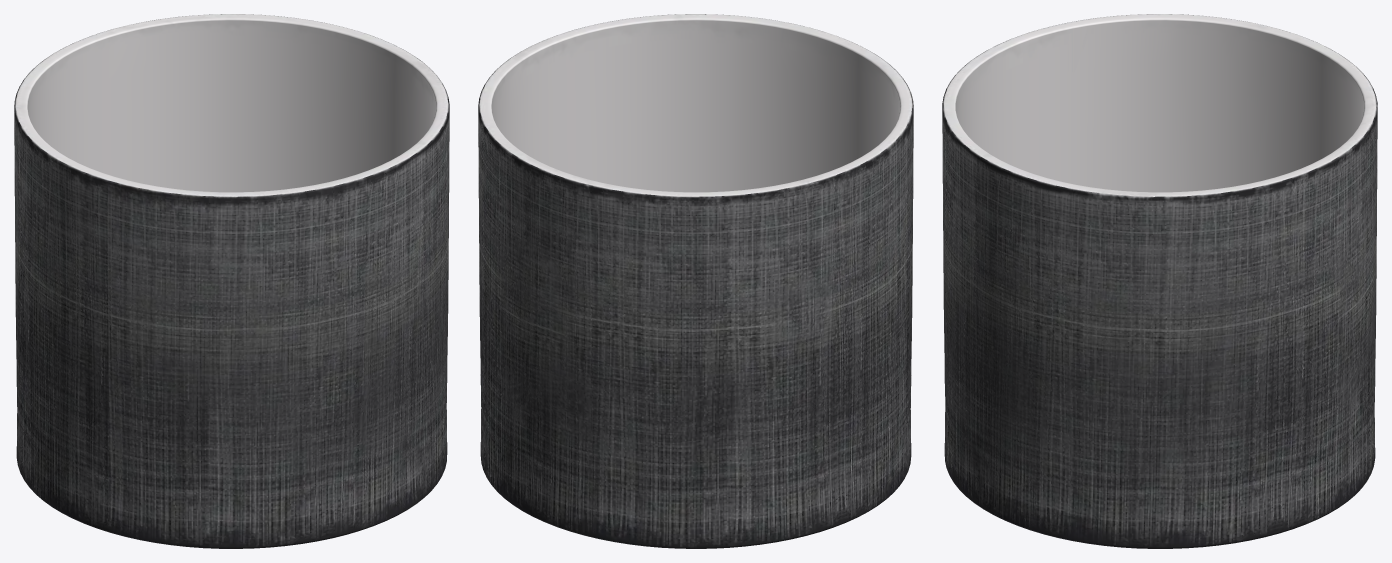
File: abo-B07QD5G1KC.glb
The picture shows the model from 3 angles, left to right: view 1: azimuth 30°, elevation 25°; view 2: azimuth 150°, elevation 25°; view 3: azimuth 270°, elevation 25°; orthographic projection.
Size of the model in its own units: 0.221 by 0.201 by 0.221.
1 material, 1 textured.
